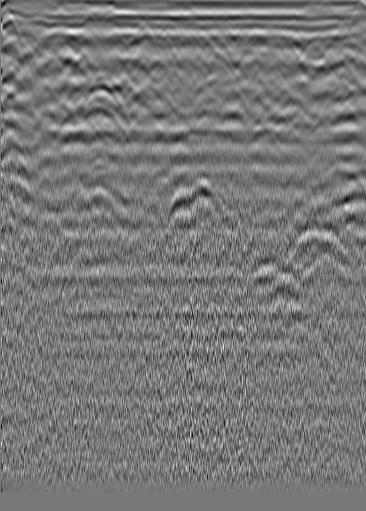가스: (79, 183, 122, 215)
상수: (322, 43, 342, 63)
오수: (39, 58, 59, 78)
우수: (200, 38, 220, 58)
